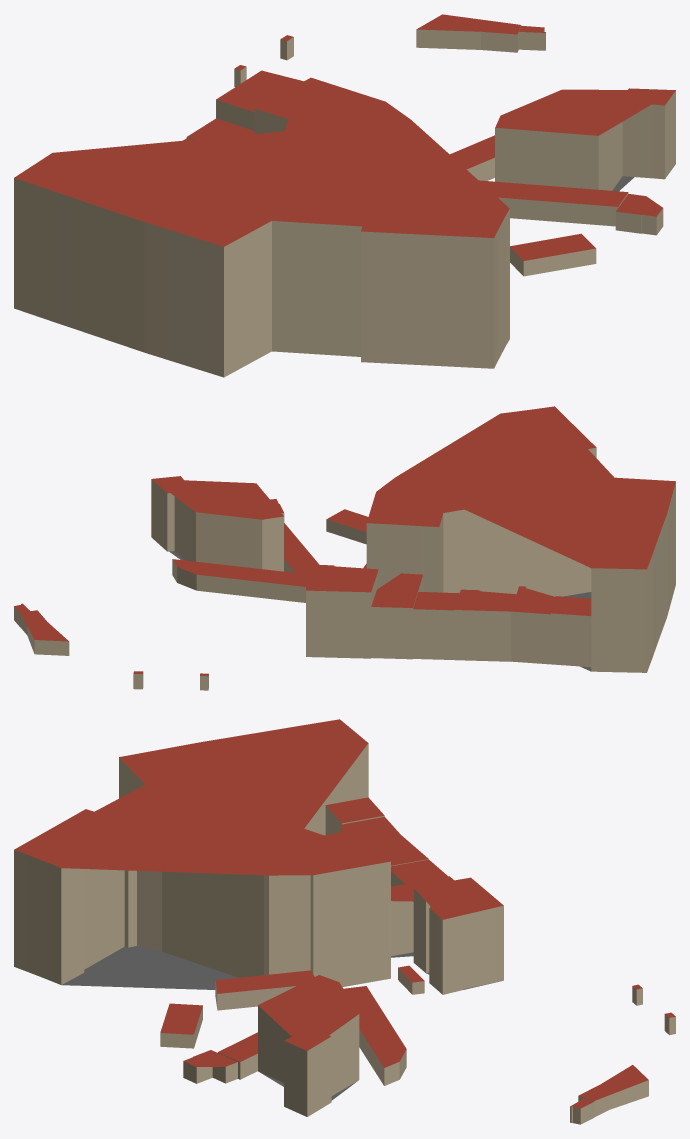
The model's file is ingolstadt_20_lod1_buildings.obj.
The picture shows the model from 3 angles, top to bottom: view 1: azimuth 30°, elevation 25°; view 2: azimuth 150°, elevation 25°; view 3: azimuth 270°, elevation 25°; orthographic projection. The views are drawn at different scales.
Parts seen in each view (by area): view 1: bldg_DEBY_L2_4392429, bldg_DEBY_L2_107777145, bldg_DEBY_L2_4392842, bldg_DEBY_L2_4392881, bldg_DEBY_L2_4392841, bldg_DEBY_L2_4392510, bldg_DEBY_L2_4392882, bldg_DEBY_L2_104848284, bldg_DEBY_L2_4392436, bldg_DEBY_L2_108277597; view 2: bldg_DEBY_L2_4392429, bldg_DEBY_L2_107777145, bldg_DEBY_L2_4392510, bldg_DEBY_L2_4392434, bldg_DEBY_L2_104848284, bldg_DEBY_L2_4392436, bldg_DEBY_L2_4392432, bldg_DEBY_L2_4392435, bldg_DEBY_L2_4392430, bldg_DEBY_L2_4392881, bldg_DEBY_L2_4392841, bldg_DEBY_L2_4392842; view 3: bldg_DEBY_L2_4392429, bldg_DEBY_L2_107777145, bldg_DEBY_L2_4392510, bldg_DEBY_L2_104848284, bldg_DEBY_L2_4392840, bldg_DEBY_L2_4392436, bldg_DEBY_L2_4392881, bldg_DEBY_L2_4392841, bldg_DEBY_L2_4392882, bldg_DEBY_L2_4392430, bldg_DEBY_L2_4392434, bldg_DEBY_L2_4392435 (+2 smaller).
Part boxes in pixels (left/top/right/bottom): bldg_DEBY_L2_4392429: left=14, top=77, right=509, bottom=377; bldg_DEBY_L2_107777145: left=495, top=88, right=675, bottom=191; bldg_DEBY_L2_4392842: left=479, top=180, right=628, bottom=226; bldg_DEBY_L2_4392881: left=416, top=14, right=520, bottom=52; bldg_DEBY_L2_4392841: left=510, top=233, right=596, bottom=276; bldg_DEBY_L2_4392510: left=216, top=70, right=303, bottom=130; bldg_DEBY_L2_4392882: left=615, top=194, right=663, bottom=235; bldg_DEBY_L2_104848284: left=450, top=135, right=494, bottom=180; bldg_DEBY_L2_4392436: left=186, top=118, right=254, bottom=139; bldg_DEBY_L2_108277597: left=519, top=25, right=545, bottom=50; bldg_DEBY_L2_4392429: left=366, top=406, right=675, bottom=672; bldg_DEBY_L2_107777145: left=151, top=476, right=283, bottom=571; bldg_DEBY_L2_4392510: left=306, top=564, right=378, bottom=658; bldg_DEBY_L2_4392434: left=454, top=589, right=516, bottom=661; bldg_DEBY_L2_104848284: left=172, top=559, right=306, bottom=602; bldg_DEBY_L2_4392436: left=371, top=573, right=423, bottom=659; bldg_DEBY_L2_4392432: left=511, top=586, right=555, bottom=664; bldg_DEBY_L2_4392435: left=413, top=592, right=459, bottom=659; bldg_DEBY_L2_4392430: left=551, top=596, right=591, bottom=667; bldg_DEBY_L2_4392881: left=20, top=610, right=69, bottom=655; bldg_DEBY_L2_4392841: left=326, top=509, right=368, bottom=544; bldg_DEBY_L2_4392842: left=284, top=523, right=319, bottom=573; bldg_DEBY_L2_4392429: left=14, top=719, right=390, bottom=989; bldg_DEBY_L2_107777145: left=258, top=975, right=359, bottom=1116; bldg_DEBY_L2_4392510: left=413, top=877, right=503, bottom=994; bldg_DEBY_L2_104848284: left=343, top=986, right=406, bottom=1085; bldg_DEBY_L2_4392840: left=215, top=970, right=314, bottom=1010; bldg_DEBY_L2_4392436: left=391, top=876, right=453, bottom=957; bldg_DEBY_L2_4392881: left=578, top=1065, right=648, bottom=1117; bldg_DEBY_L2_4392841: left=160, top=1003, right=202, bottom=1048; bldg_DEBY_L2_4392882: left=183, top=1050, right=237, bottom=1083; bldg_DEBY_L2_4392430: left=325, top=797, right=384, bottom=834; bldg_DEBY_L2_4392434: left=370, top=834, right=428, bottom=866; bldg_DEBY_L2_4392435: left=391, top=859, right=448, bottom=886.
Bounding box in the file's own units: 117 × 22.01 × 113.
